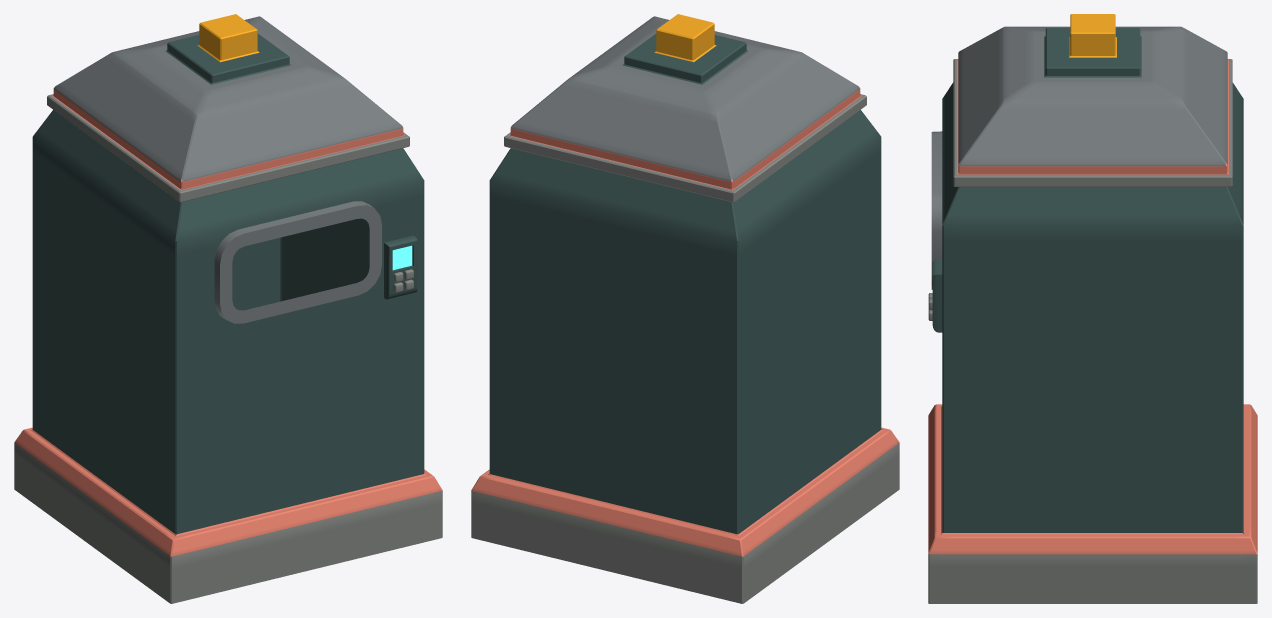
File: kapsül.fbx
The picture shows the model from 3 angles, left to right: view 1: azimuth 30°, elevation 25°; view 2: azimuth 150°, elevation 25°; view 3: azimuth 270°, elevation 25°; orthographic projection. The views are drawn at different scales.
Visible parts, largest first — view 1: Cube, Cube.001, Cube.002; view 2: Cube; view 3: Cube, Cube.001, Cube.002.
Part boxes in pixels (bbox=[...]): Cube: bbox=[14, 14, 442, 603]; Cube.001: bbox=[214, 201, 381, 323]; Cube.002: bbox=[384, 235, 417, 299]; Cube: bbox=[471, 14, 899, 603]; Cube: bbox=[928, 14, 1257, 603]; Cube.001: bbox=[931, 131, 942, 289]; Cube.002: bbox=[932, 259, 942, 332].
Bounding box in the file's own units: 304 × 520 × 304.
